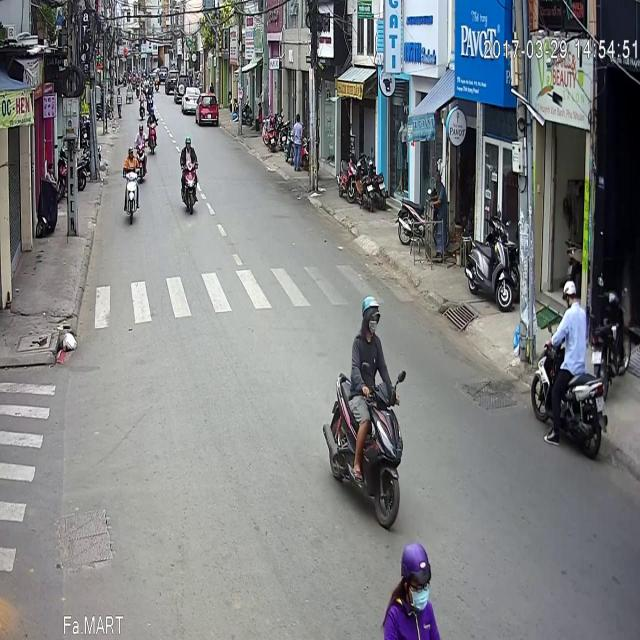car: (194, 34, 218, 66)
motorcycle: (322, 237, 406, 471), (530, 221, 607, 403), (179, 79, 199, 157), (122, 86, 140, 167), (134, 64, 148, 124), (146, 48, 158, 94)
